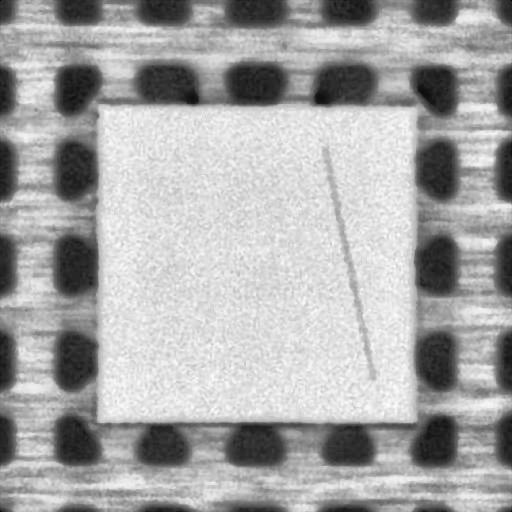DIE_CRACK: (323, 148, 371, 379)
